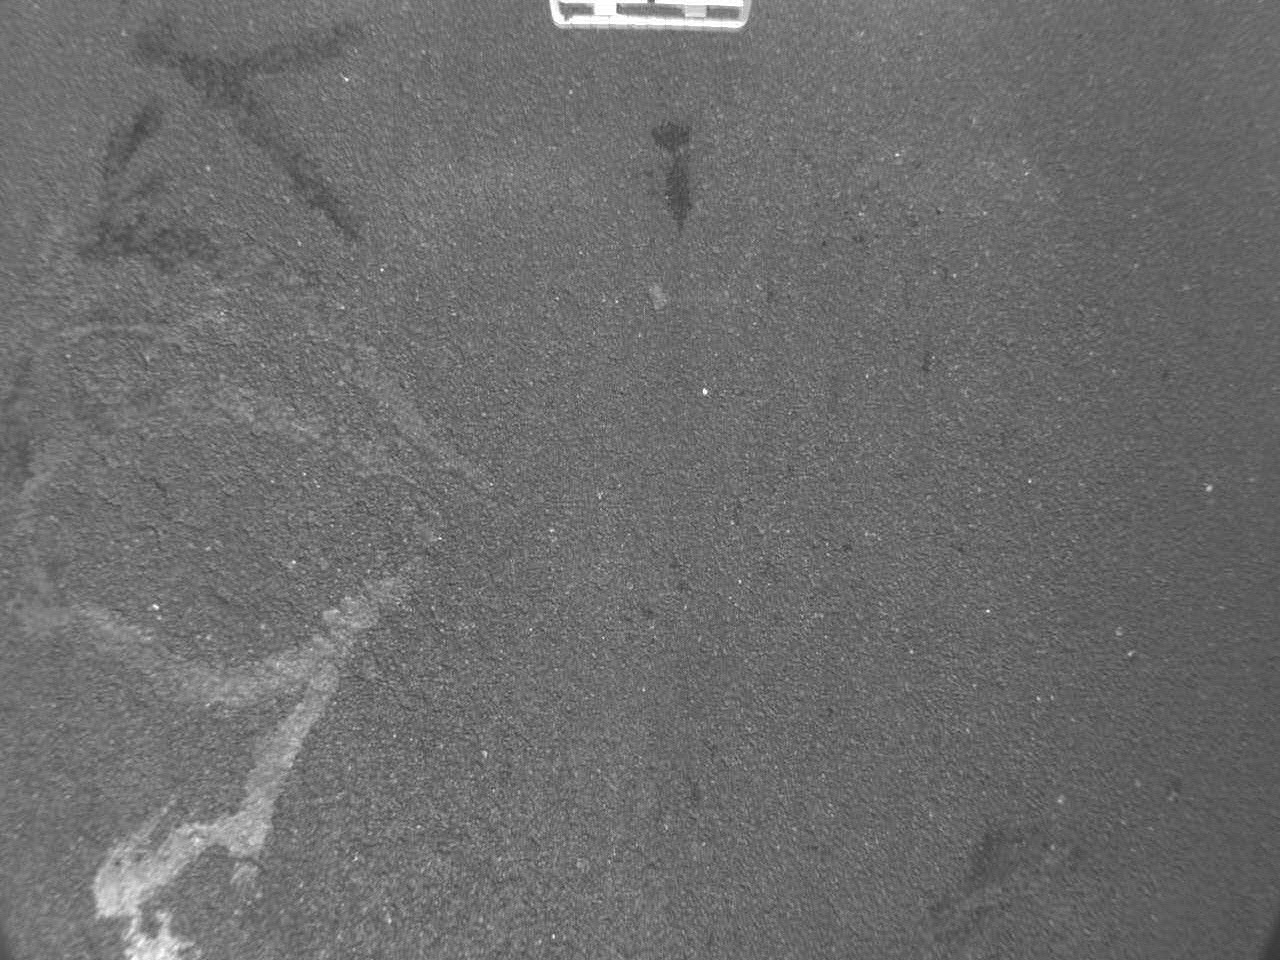sealed: (53, 592, 399, 960)
